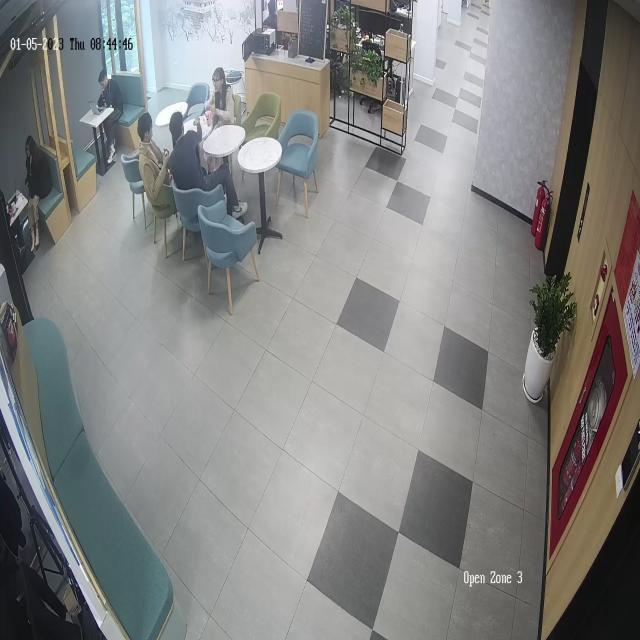person: (168, 111, 248, 217), (26, 133, 56, 256), (137, 111, 173, 208), (97, 67, 125, 163), (206, 66, 236, 126)
